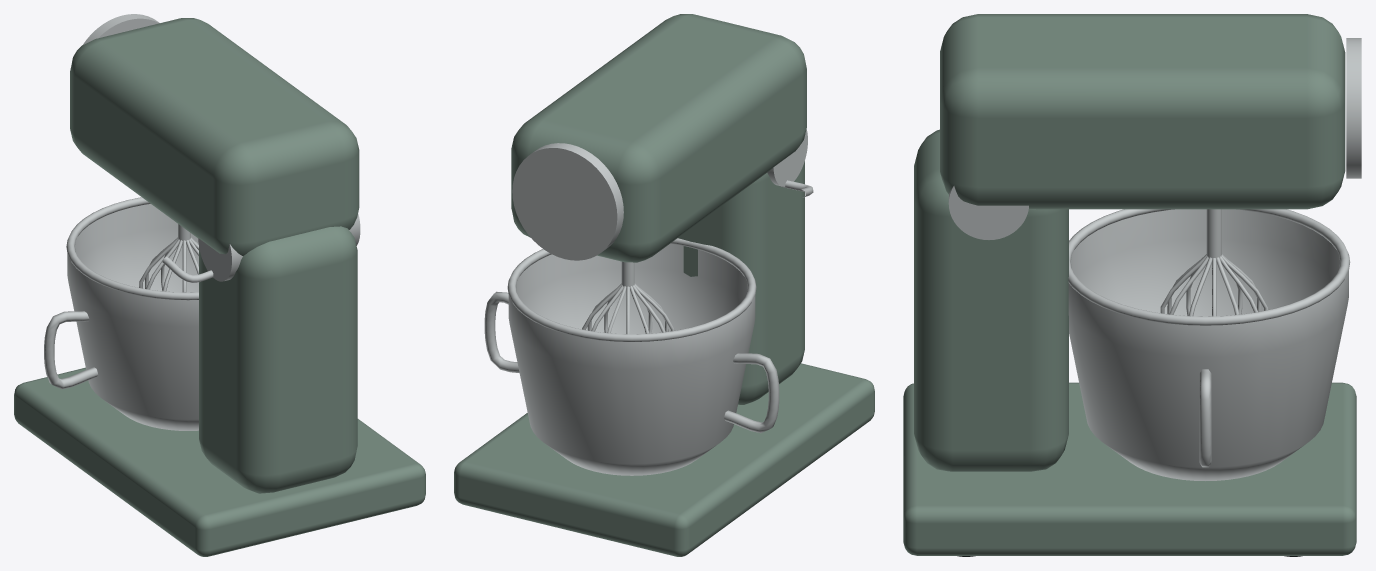
File: kitchen-stand-mixer.glb
3 views of the same model, side by side, from view 1: azimuth 30°, elevation 25°; view 2: azimuth 150°, elevation 25°; view 3: azimuth 270°, elevation 25° (orthographic). The views are drawn at different scales.
Visible parts, largest first — view 1: sage_surfaces, steel_surfaces; view 2: sage_surfaces, steel_surfaces; view 3: sage_surfaces, steel_surfaces.
Part boxes in pixels (x1,y1,x2,y2): sage_surfaces: (14,18,425,556); steel_surfaces: (44,14,360,430); sage_surfaces: (454,14,874,556); steel_surfaces: (484,129,813,475); sage_surfaces: (903,14,1356,555); steel_surfaces: (948,38,1361,480).
Bounding box in the file's own units: 0.3117 × 0.4075 × 0.364.
